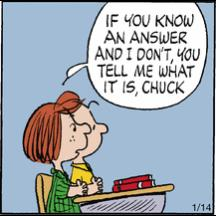charlie: (66, 100, 112, 198)
